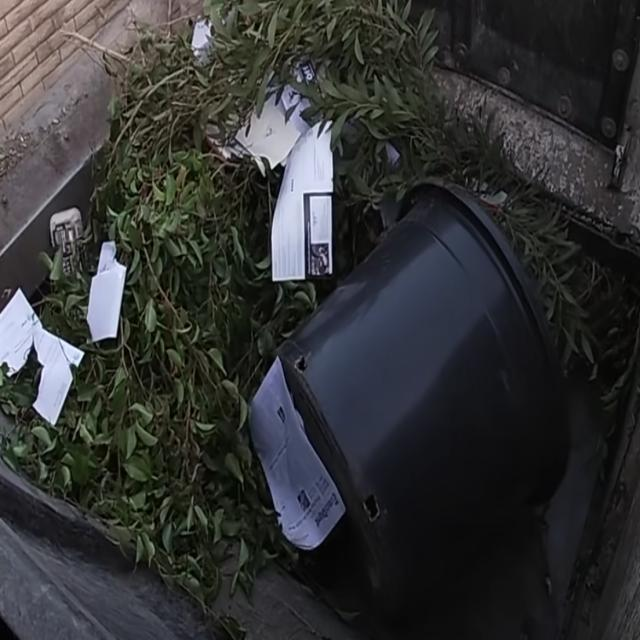paper: (221, 79, 368, 287), (0, 268, 132, 416)
plastic: (254, 182, 584, 574)
yard: (0, 5, 252, 586)
